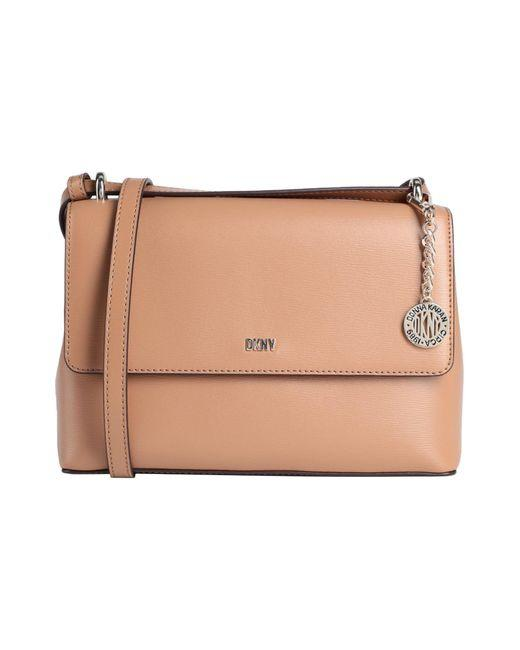DKNY: (245, 338, 275, 351)
